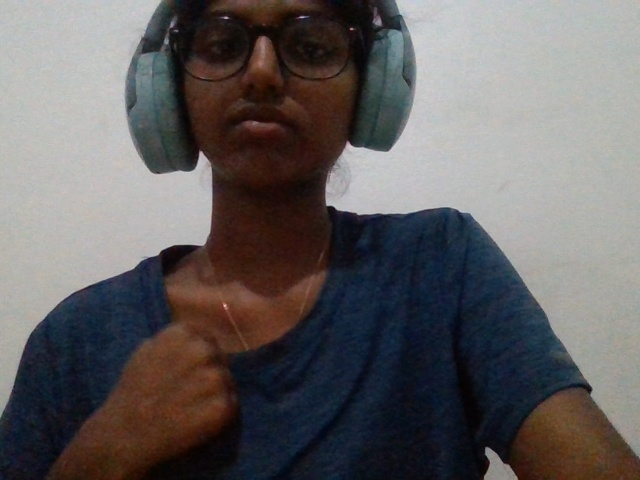Sorry: (74, 307, 247, 480)
